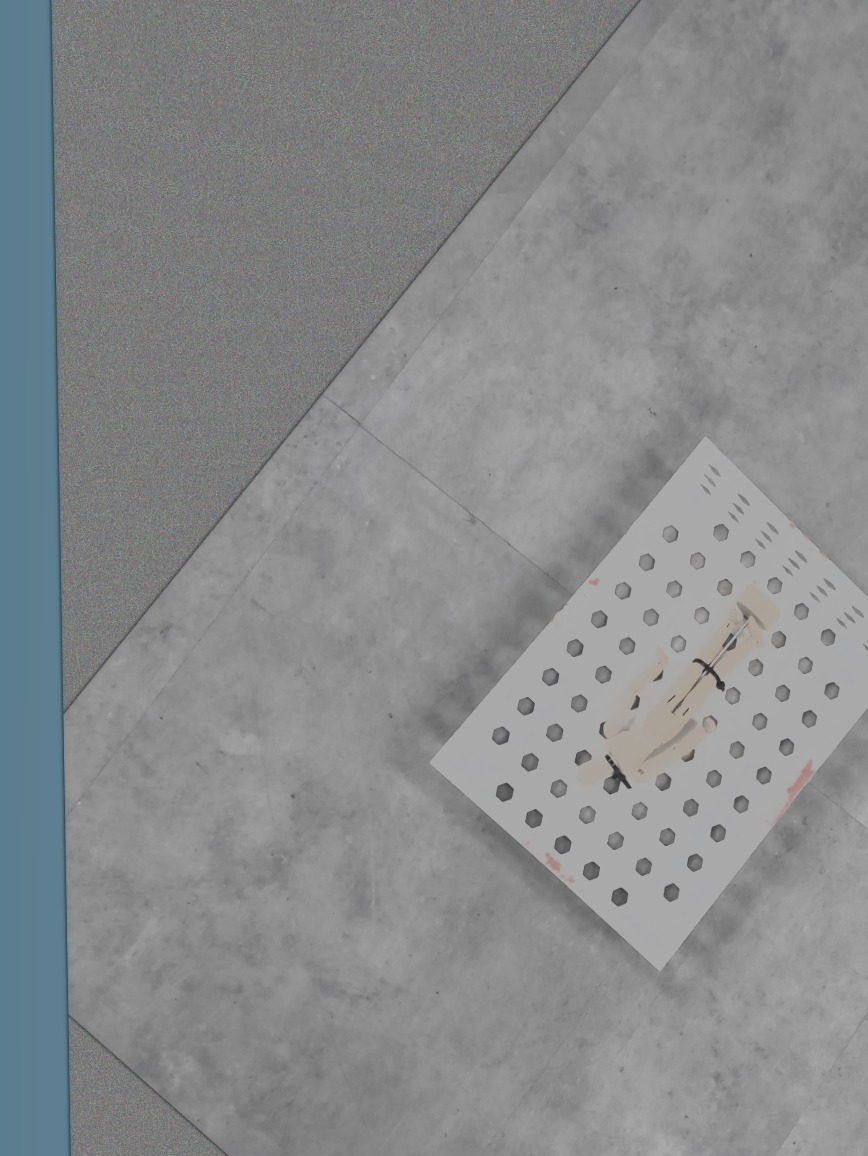basket: (420, 422, 868, 983)
mannequin: (570, 579, 788, 797)
